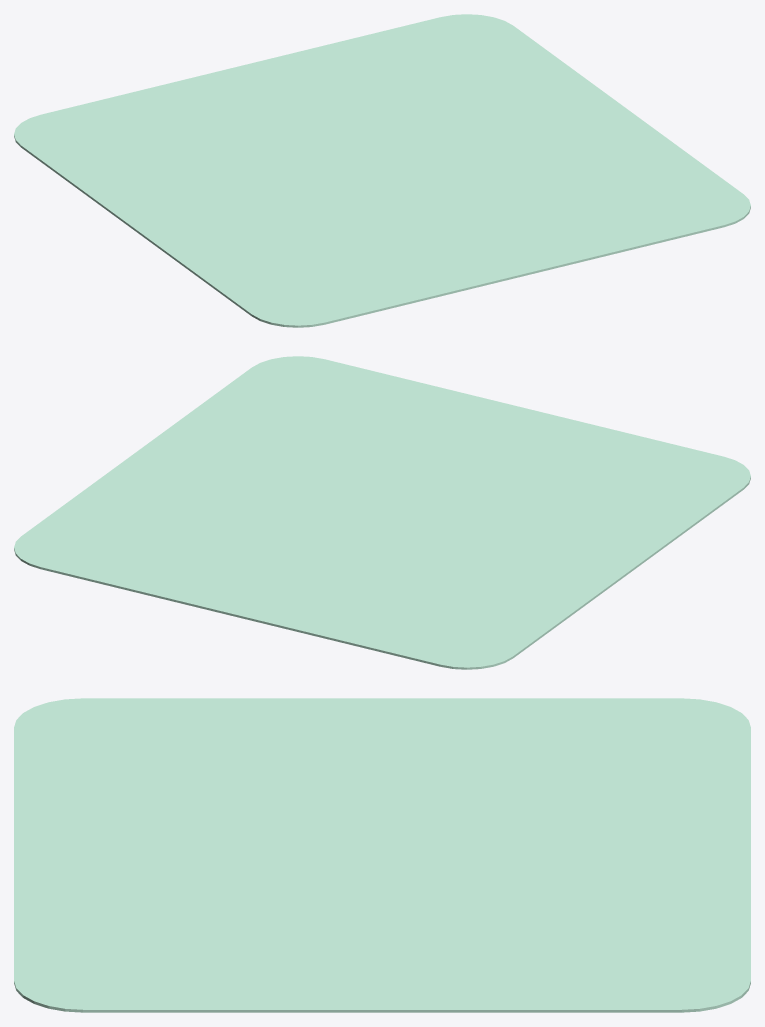
3 views of the same model, one above another, from view 1: azimuth 30°, elevation 25°; view 2: azimuth 150°, elevation 25°; view 3: azimuth 270°, elevation 25° (orthographic). The views are drawn at different scales.
Parts seen in each view (by area): view 1: COM-02 Floor Surface; view 2: COM-02 Floor Surface; view 3: COM-02 Floor Surface.
Boxes of the visible parts, <box> form: COM-02 Floor Surface: <box>14,14,750,327</box>; COM-02 Floor Surface: <box>14,356,750,669</box>; COM-02 Floor Surface: <box>14,698,750,1012</box>.
Bounding box in the file's own units: 192 × 0.8 × 192.
